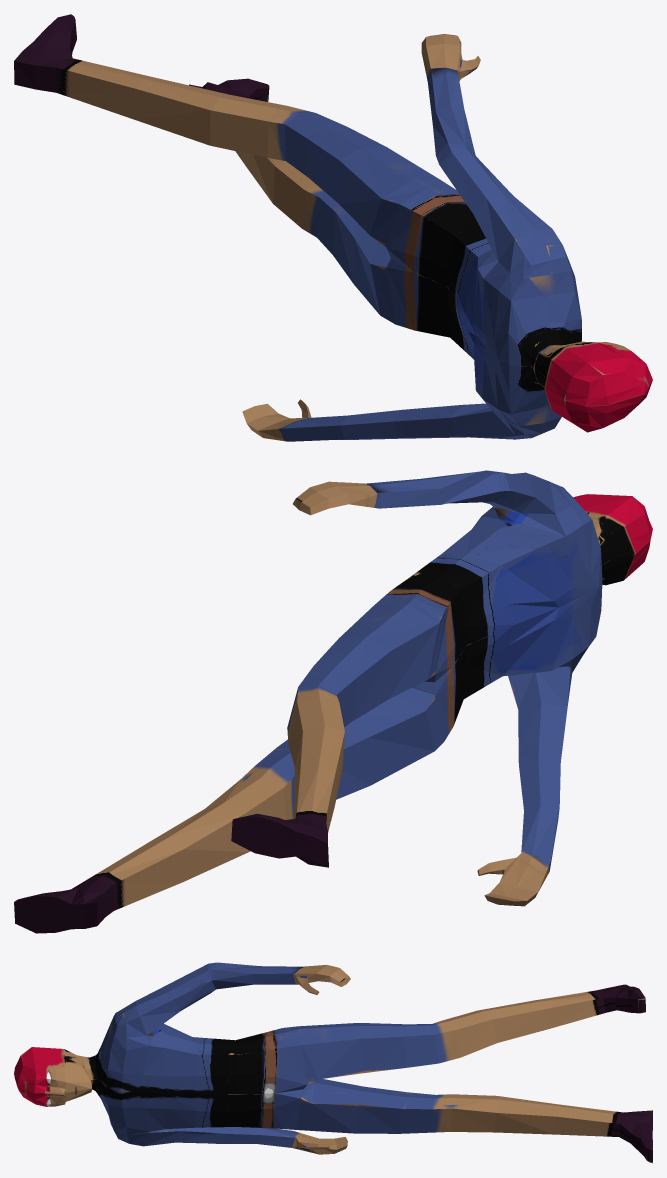
Rendered from mirrorman_000029.obj.
3 views of the same model, one above another, from view 1: azimuth 30°, elevation 25°; view 2: azimuth 150°, elevation 25°; view 3: azimuth 270°, elevation 25° (orthographic). The views are drawn at different scales.
Visible parts, largest first — view 1: mirrorman_Cube.001_Material.001; view 2: mirrorman_Cube.001_Material.001; view 3: mirrorman_Cube.001_Material.001.
Part boxes in pixels (box(x1,y1,x2,y2)): mirrorman_Cube.001_Material.001: box(14, 14, 652, 441); mirrorman_Cube.001_Material.001: box(14, 470, 652, 933); mirrorman_Cube.001_Material.001: box(14, 962, 652, 1163).
Bounding box in the file's own units: 0.6471 × 0.7809 × 1.89.
